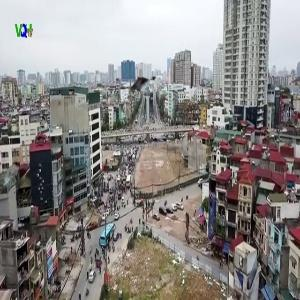drone: (117, 61, 166, 110)
